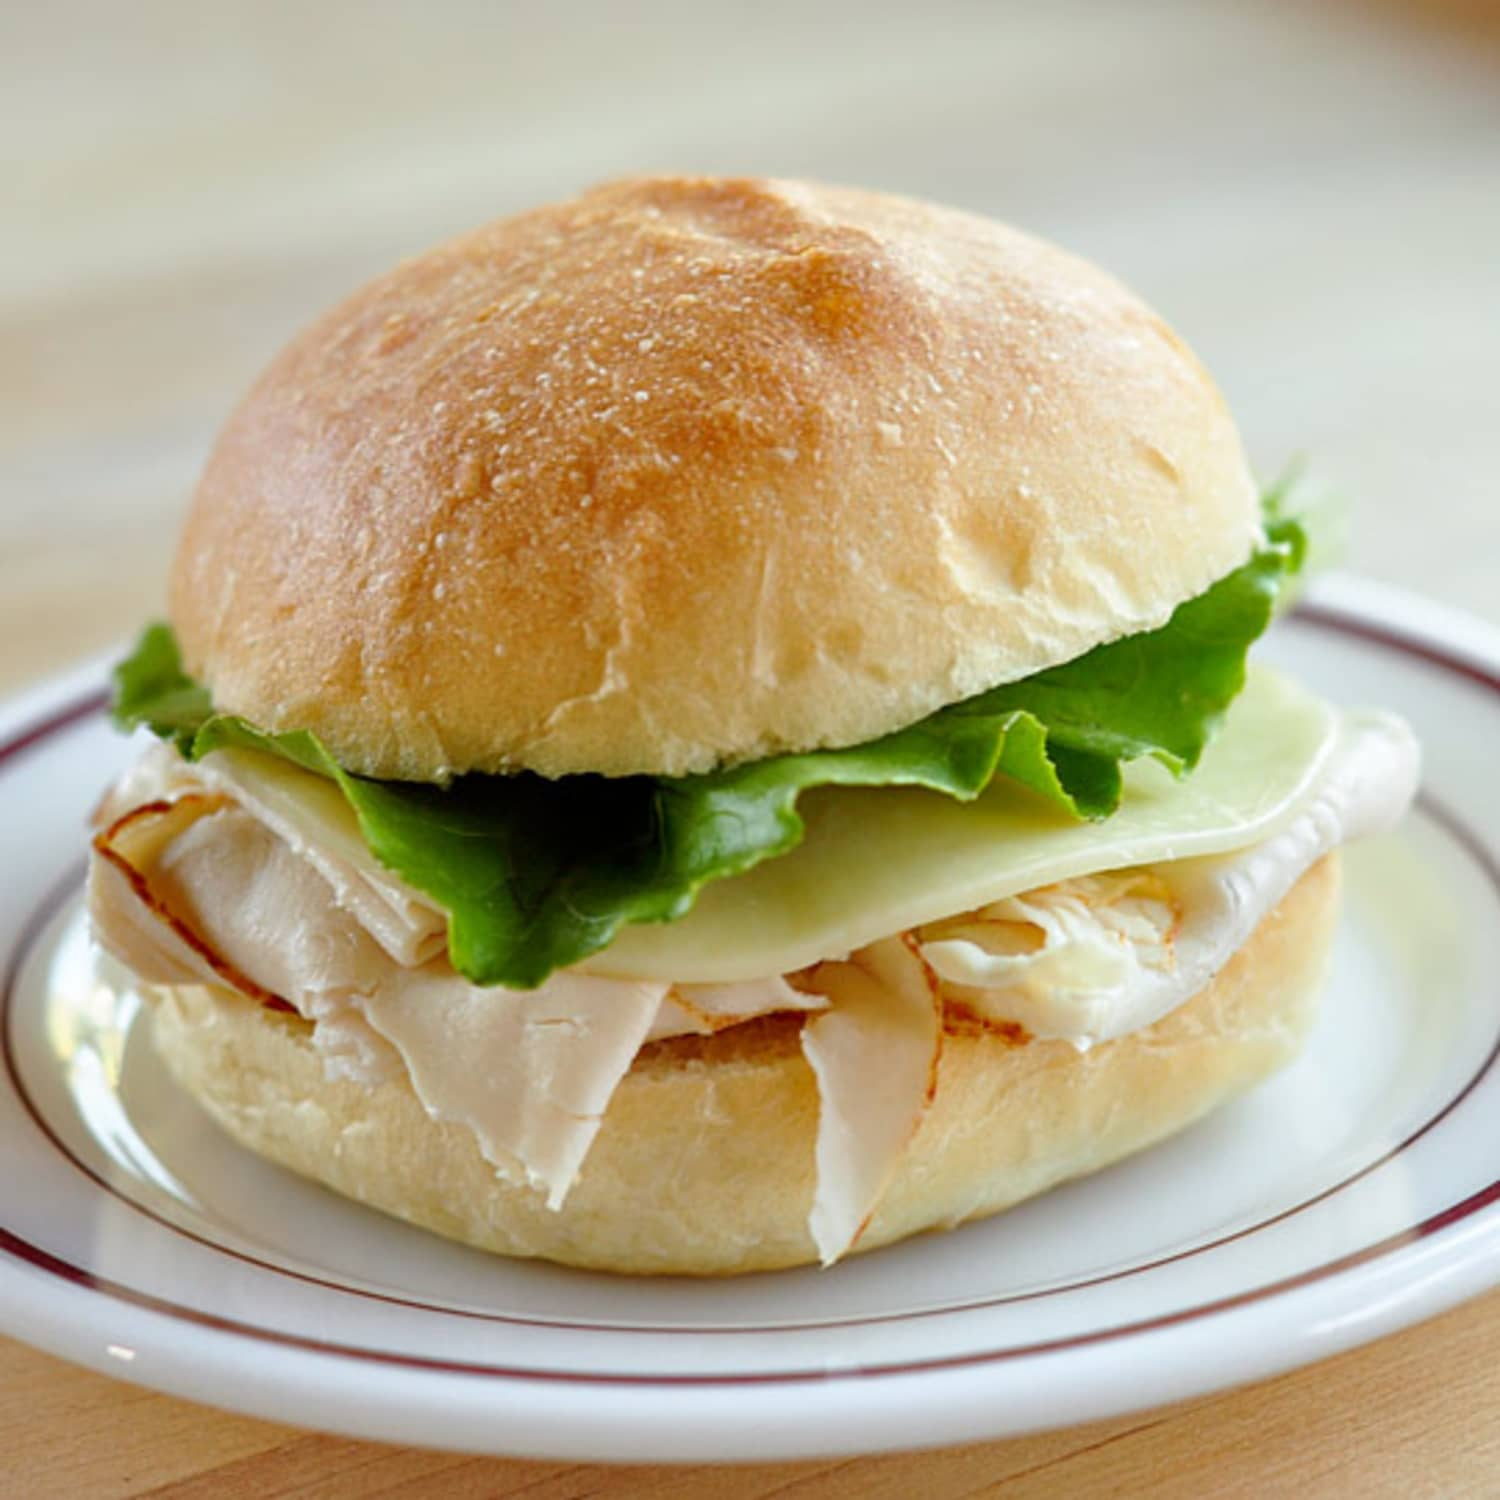hamburger_buns: (121, 139, 1370, 1262)
